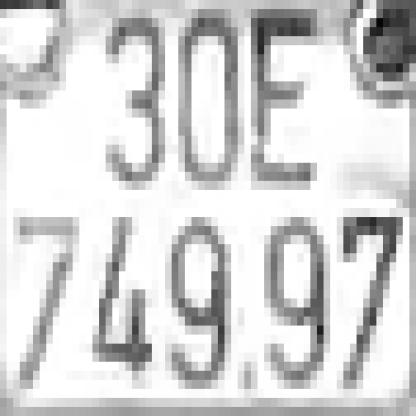0: (178, 9, 231, 181)
3: (106, 18, 165, 190)
4: (99, 208, 152, 371)
7: (13, 208, 79, 380), (337, 208, 396, 380)
9: (258, 208, 324, 380), (165, 208, 225, 380)
E: (244, 9, 310, 181)
